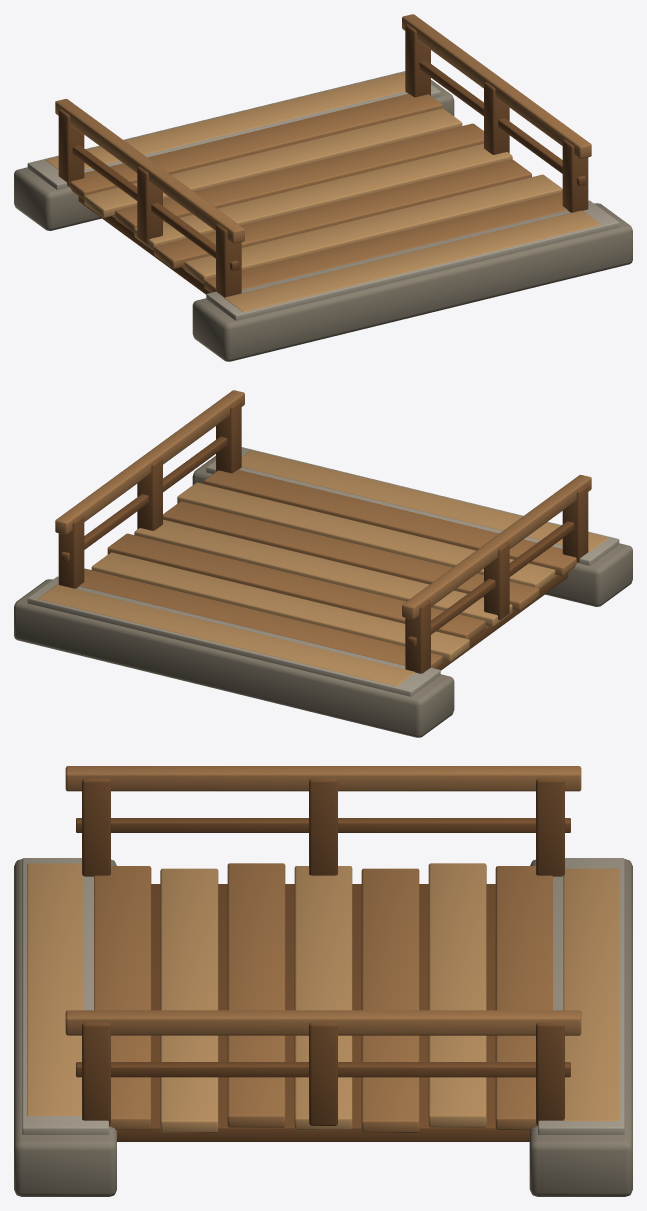
The model's file is bridge.glb.
3 renders of one model, top to bottom at view 1: azimuth 30°, elevation 25°; view 2: azimuth 150°, elevation 25°; view 3: azimuth 270°, elevation 25°, orthographic. The views are drawn at different scales.
Visible parts, largest first — view 1: SK_bridge; view 2: SK_bridge; view 3: SK_bridge.
Part boxes in pixels (x1,y1,x2,y2): SK_bridge: (14, 14, 632, 361); SK_bridge: (14, 390, 632, 737); SK_bridge: (14, 766, 632, 1196).
Size of the model in its own units: 3.3 by 0.88 by 3.
